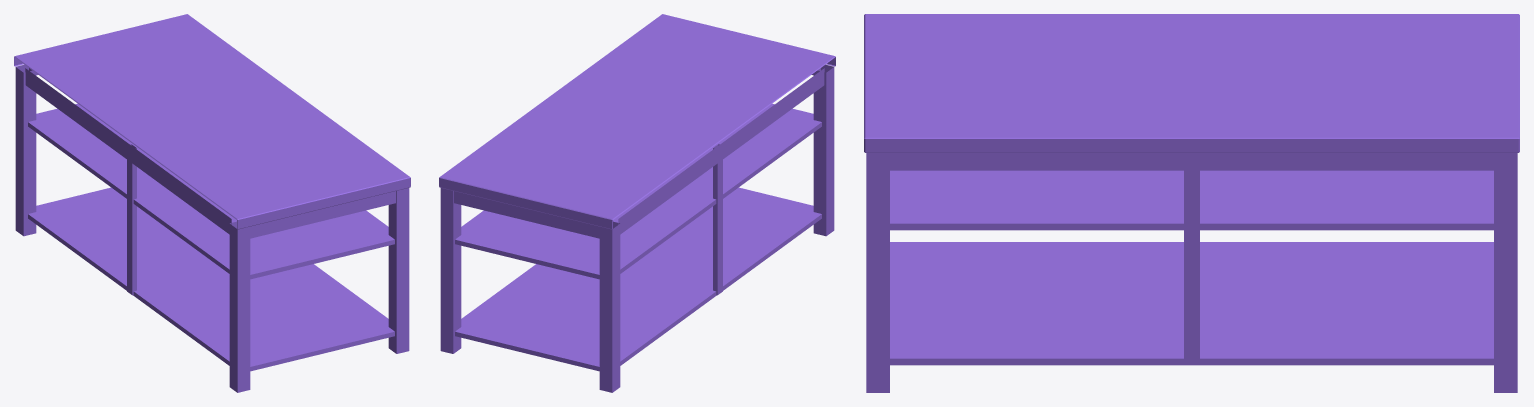
Rendered from G_Table_02.fbx.
The picture shows the model from 3 angles, left to right: view 1: azimuth 30°, elevation 25°; view 2: azimuth 150°, elevation 25°; view 3: azimuth 270°, elevation 25°; orthographic projection. The views are drawn at different scales.
Parts seen in each view (by area): view 1: table; view 2: table; view 3: table.
Boxes of the visible parts, x1,y1,x2,y2 form: table: (14, 14, 410, 392); table: (439, 14, 835, 392); table: (864, 14, 1519, 392).
Size of the model in its own units: 1051 by 1006 by 2338.
